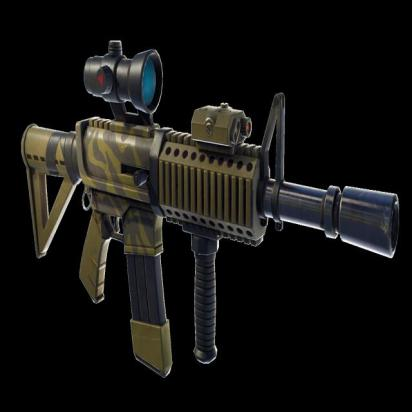Gun: (21, 46, 408, 379)
